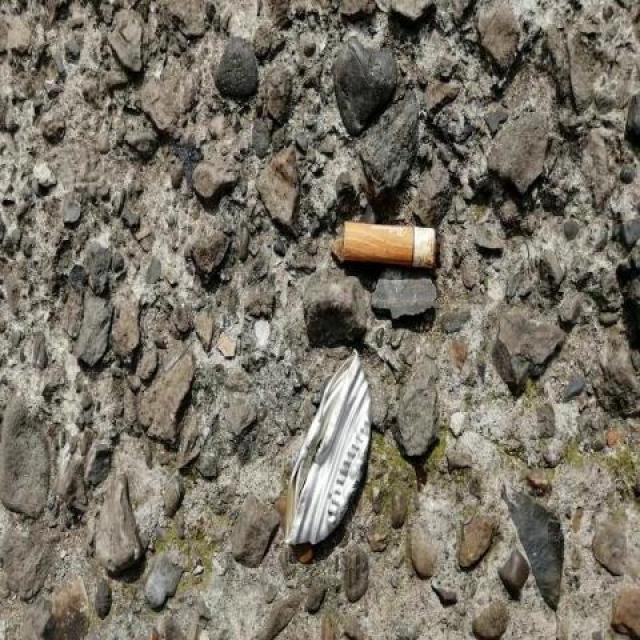non-organic waste: (337, 215, 444, 282)
